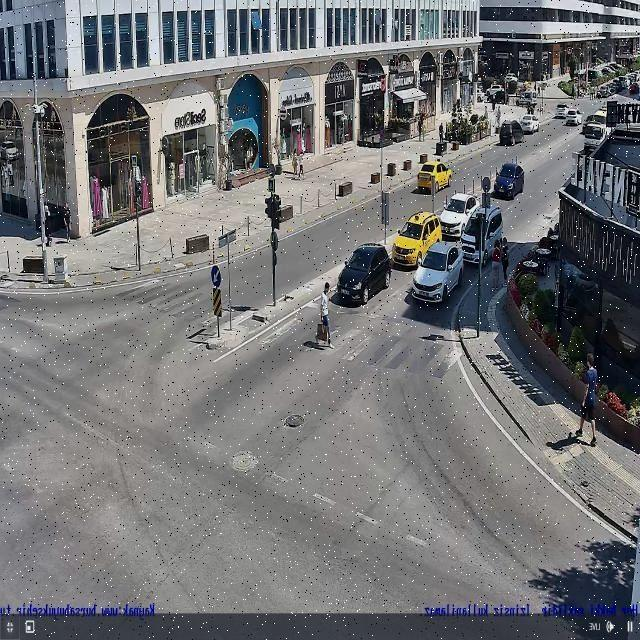Car: (334, 243, 390, 304), (412, 242, 464, 302), (392, 210, 442, 267), (460, 203, 502, 267), (439, 193, 479, 238), (494, 161, 525, 200), (417, 160, 452, 193), (582, 120, 606, 150), (500, 120, 524, 145), (585, 110, 607, 132), (520, 115, 540, 134), (485, 85, 506, 102), (564, 109, 584, 126), (517, 91, 538, 107), (554, 104, 570, 118)
